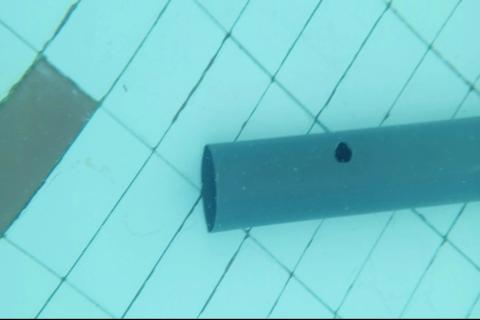kebocoran: (334, 141, 353, 164)
